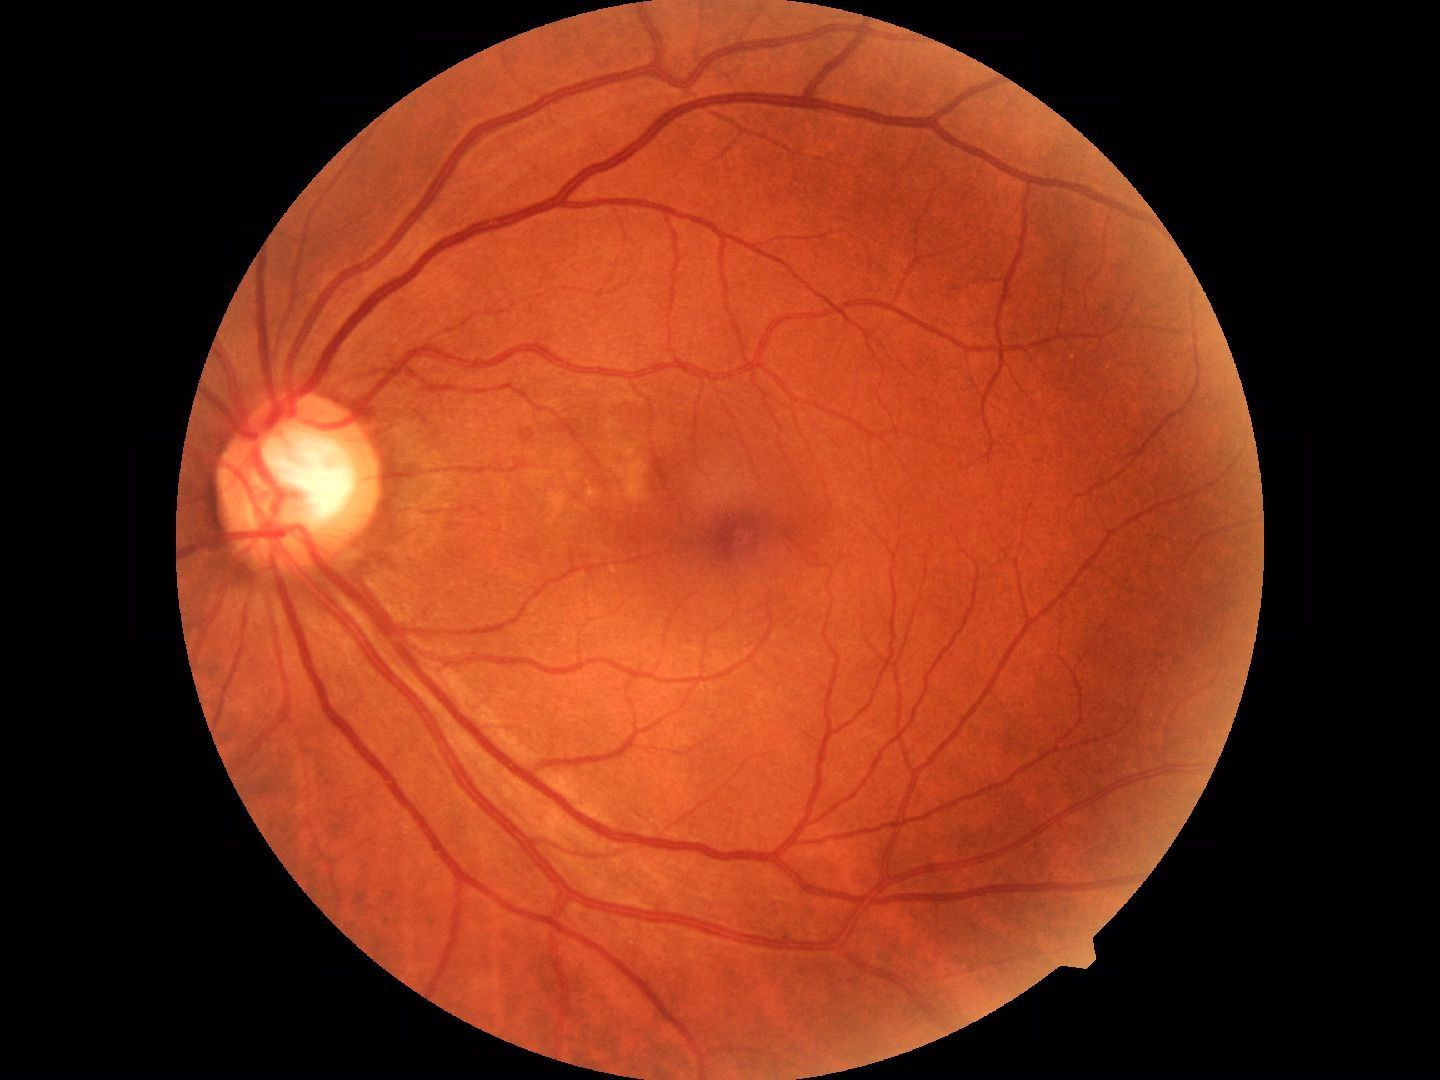Arterioles: (827, 604, 1040, 867)
Hemorrhages: (686, 493, 791, 571)
Optic-Disc: (212, 381, 391, 577)
Venules: (432, 686, 641, 948), (348, 169, 599, 295)
